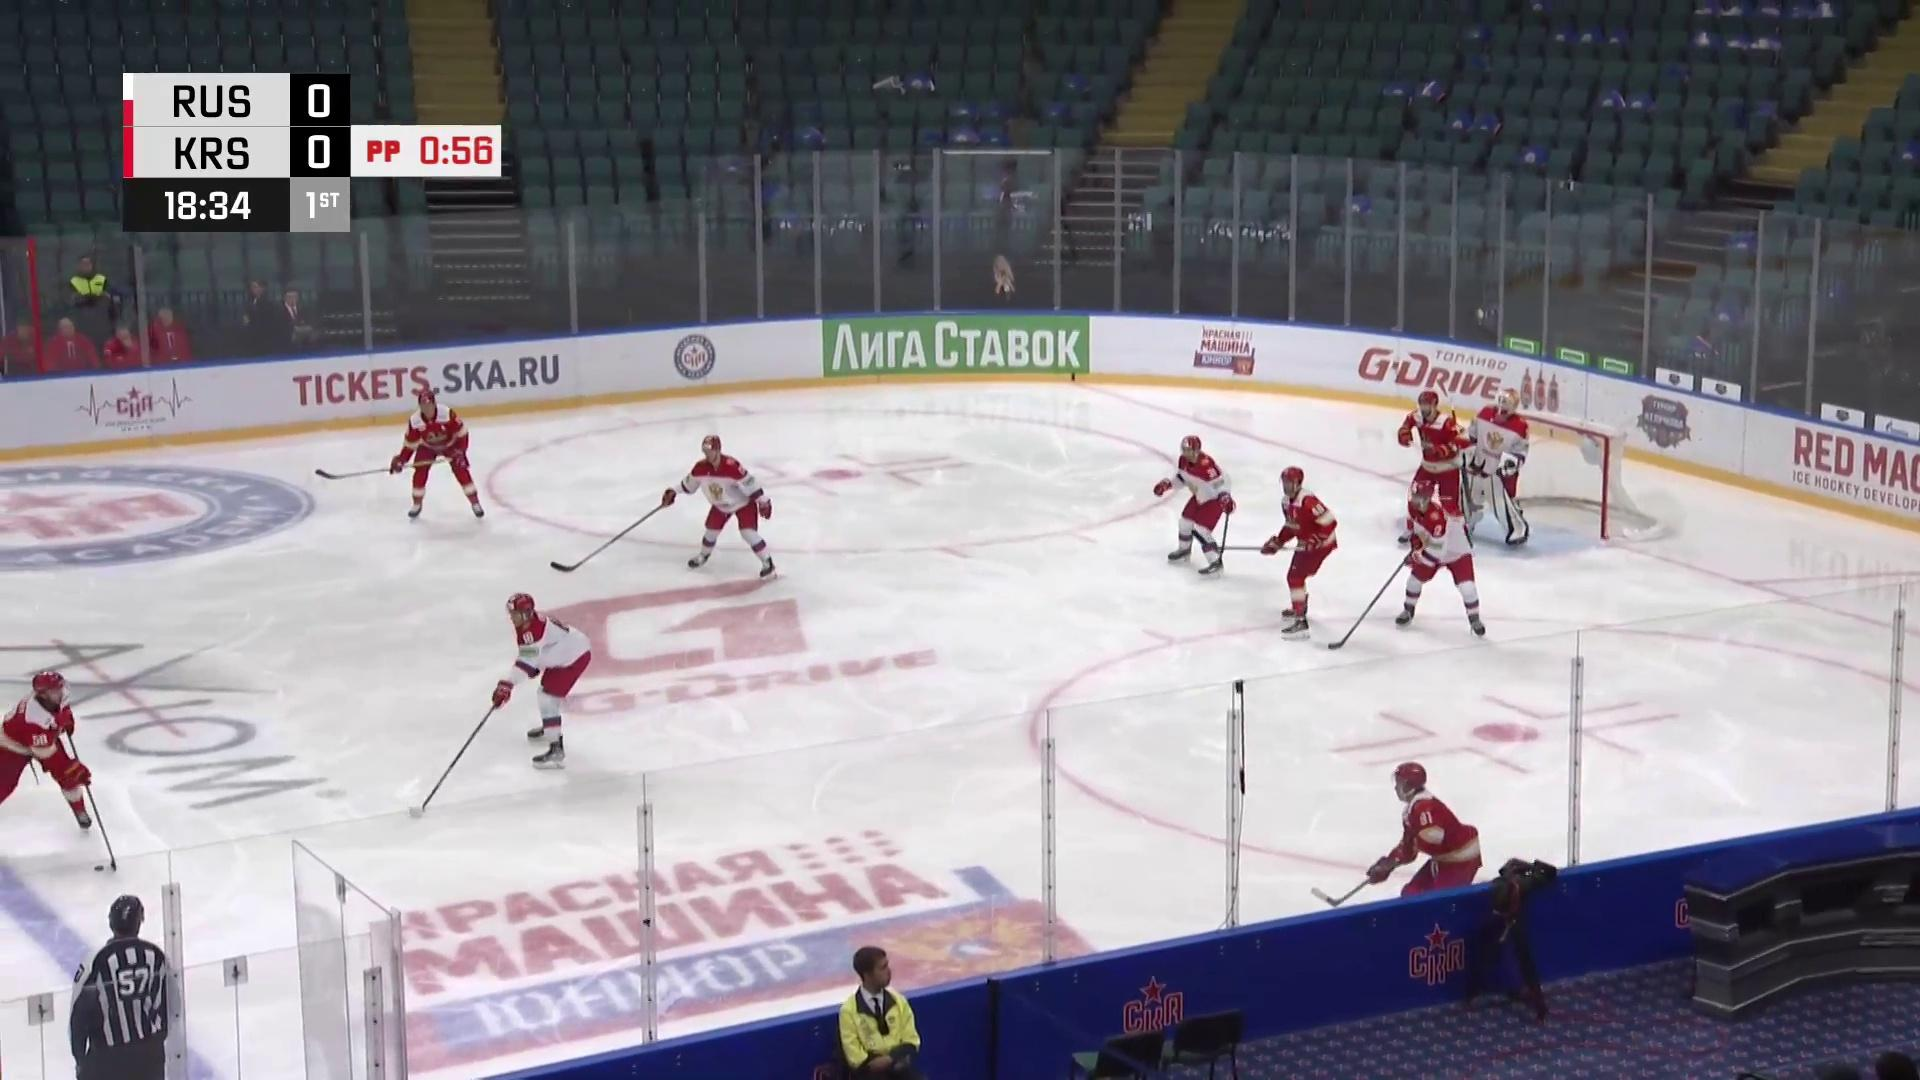ball: (92, 862, 107, 874)
